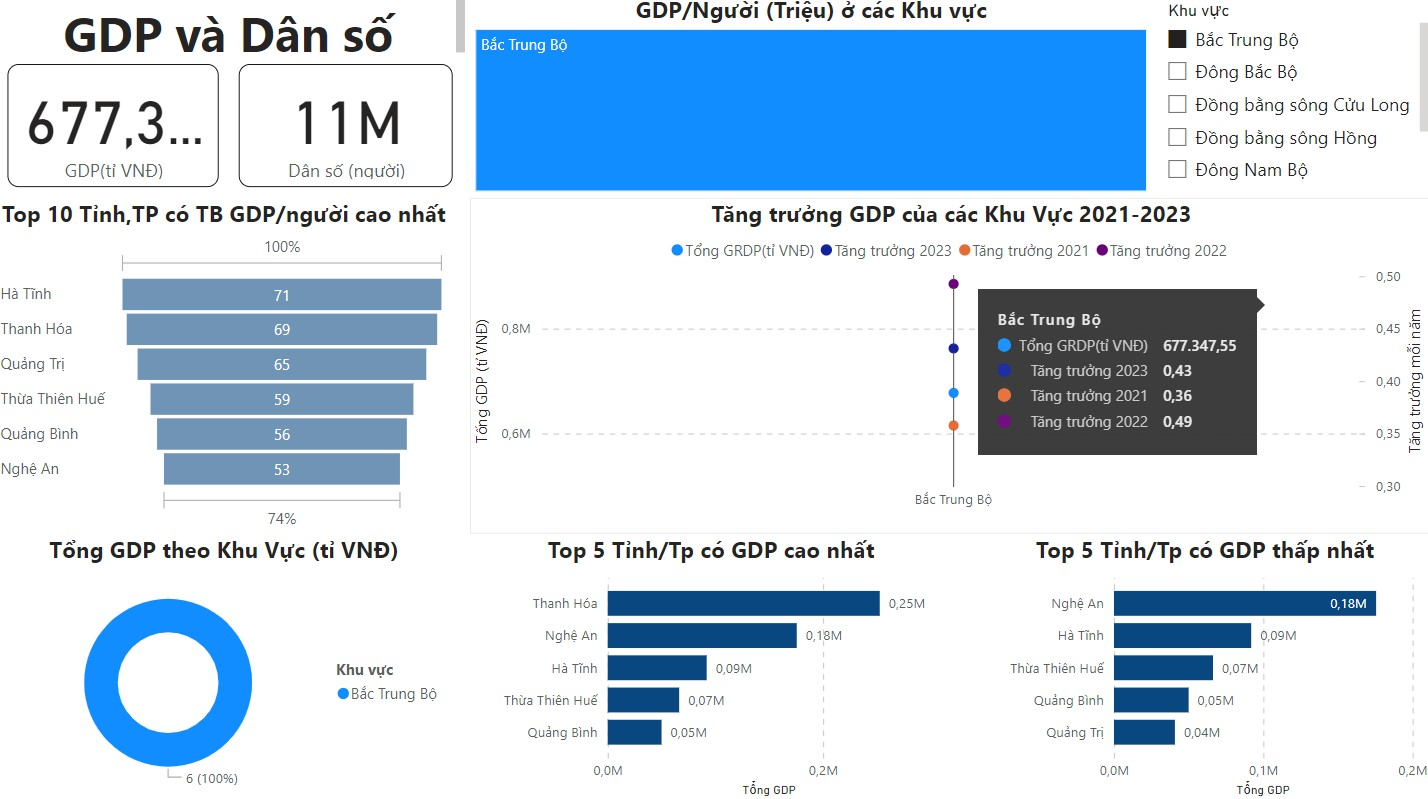

The page's visual inventory and layout, read from the dashboard file:
{"tool":"powerbi","page":{"name":"Page 1","canvas":[1280,720],"ordinal":0},"visuals":[{"type":"card","fields":{"Values":["Sum(DS Tinh.Tổng GRDP(tỉ VNĐ))"]},"box":[10.9,62.7,188.1,109.7],"z":0},{"type":"card","fields":{"Values":["Sum(DS Tinh.Dân số (người))"]},"box":[217.1,62.7,190.6,109.7],"z":1000},{"type":"lineChart","title":"Tăng trưởng GDP của các Khu Vực 2021-2023","fields":{"Y":["Sum(DS Tinh.Tổng GRDP(tỉ VNĐ))"],"Y2":["Sum(DS Tinh.Tăng trưởng 2023)","Sum(DS Tinh.Tăng trưởng 2021)","Sum(DS Tinh.Tăng trưởng 2022)"],"Category":["DS Tinh.Khu vực"]},"box":[423.3,180.9,857.5,300.3],"z":2000},{"type":"donutChart","title":"Tổng GDP theo Khu Vực (tỷ VNĐ)","fields":{"Category":["DS Tinh.Khu vực"],"Y":["CountNonNull(DS Tinh.Tổng GRDP(tỉ VNĐ))"]},"box":[0,481.2,407.6,238.8],"z":3000},{"type":"barChart","title":"Top 5 Tỉnh/Tp có GDP cao nhất","fields":{"Category":["DS Tinh.Tên tỉnh, thành phố"],"Y":["Sum(DS Tinh.Tổng GRDP(tỉ VNĐ))"]},"box":[423.3,481.2,429.3,238.8],"z":4000},{"type":"barChart","title":"Top 5 Tỉnh/Tp có GDP thấp nhất","fields":{"Category":["DS Tinh.Tên tỉnh, thành phố"],"Y":["Sum(DS Tinh.Tổng GRDP(tỉ VNĐ))"]},"box":[873.2,481.2,407.6,238.8],"z":5000},{"type":"slicer","fields":{"Values":["DS Tinh.Khu vực"]},"box":[1031.2,0,249.6,180.9],"z":6000},{"type":"textbox","box":[0,0,423.3,61.5],"z":7000},{"type":"treemap","title":"GDP/Người (Triệu) ở các Khu vực","fields":{"Group":["DS Tinh.Khu vực"],"Values":["Sum(DS Tinh.GDP/Người (Triệu))"]},"box":[423.3,0,607.8,180.9],"z":8000},{"type":"funnel","title":"Top 10 Tỉnh,TP có GDP/người cao nhất","fields":{"Category":["DS Tinh.Tên tỉnh, thành phố"],"Y":["Avg(DS Tinh.GDP/Người (Triệu))"]},"box":[0,180.9,407.6,301.5],"z":9000}]}

Visuals, with their boxes in screenshot pixels (x1, y1, x2, y2), scaled from the page's 1280x720 canvas onto the 1428x799 screenshot:
card - Sum(DS Tinh.Tổng GRDP(tỉ VNĐ)): <region>12, 70, 222, 191</region>
card - Sum(DS Tinh.Dân số (người)): <region>242, 70, 455, 191</region>
"Tăng trưởng GDP của các Khu Vực 2021-2023" lineChart: <region>472, 201, 1427, 534</region>
"Tổng GDP theo Khu Vực (tỷ VNĐ)" donutChart: <region>0, 534, 455, 798</region>
"Top 5 Tỉnh/Tp có GDP cao nhất" barChart: <region>472, 534, 951, 798</region>
"Top 5 Tỉnh/Tp có GDP thấp nhất" barChart: <region>974, 534, 1427, 798</region>
slicer - DS Tinh.Khu vực: <region>1150, 0, 1427, 201</region>
textbox: <region>0, 0, 472, 68</region>
"GDP/Người (Triệu) ở các Khu vực" treemap: <region>472, 0, 1150, 201</region>
"Top 10 Tỉnh,TP có GDP/người cao nhất" funnel: <region>0, 201, 455, 535</region>
